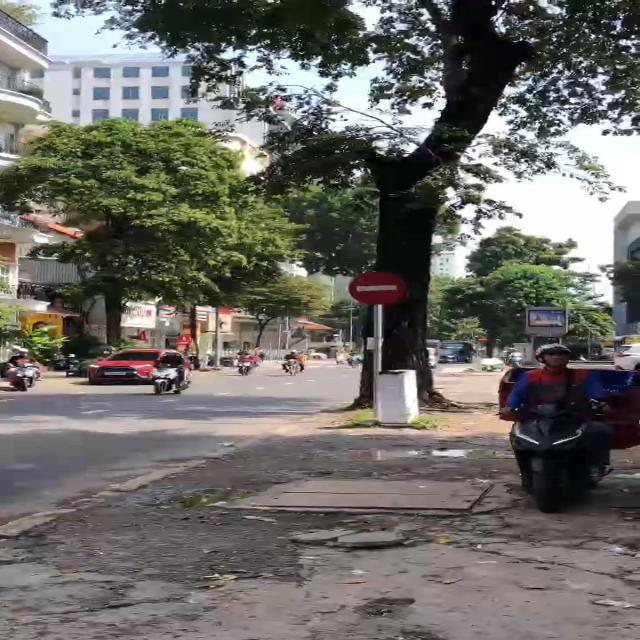Bien bao cam di nguoc chieu: (348, 268, 414, 308)
